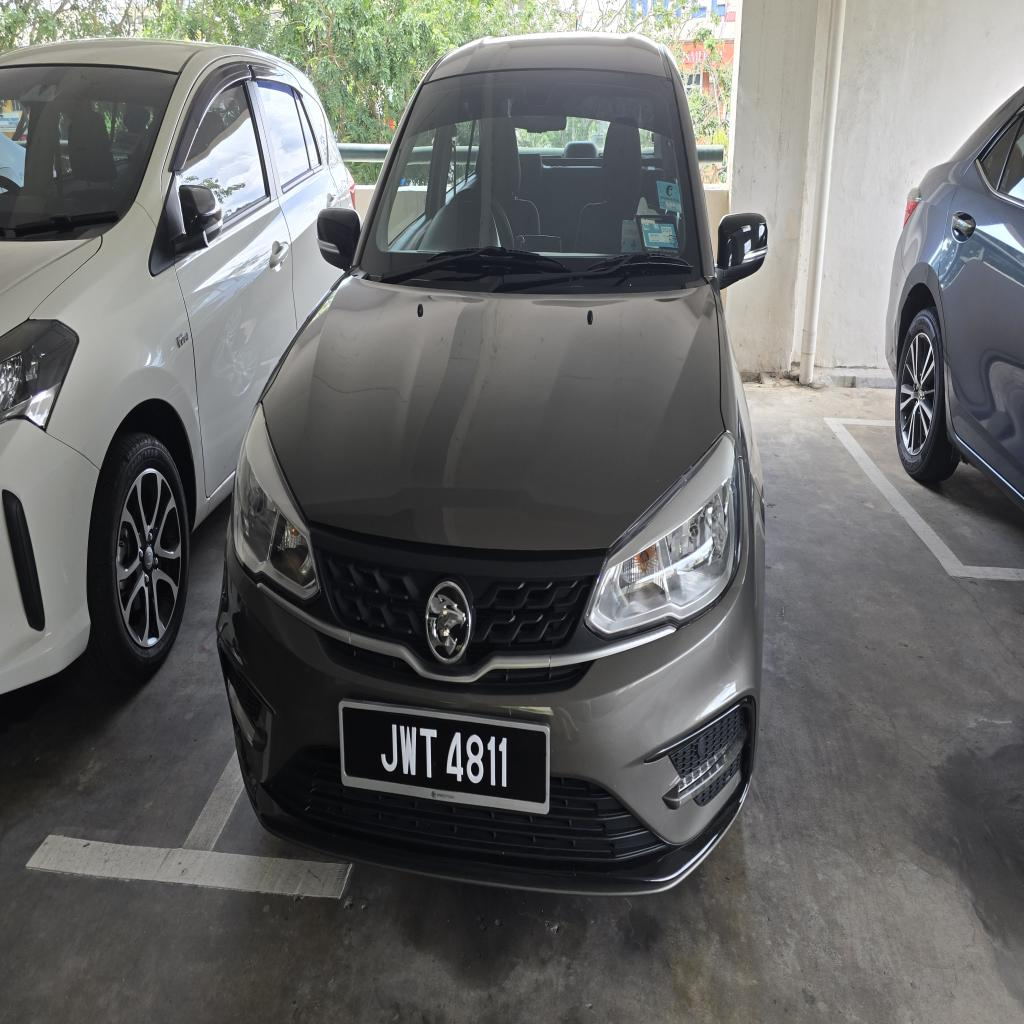car: (218, 35, 766, 892)
car plate: (340, 700, 549, 813)
